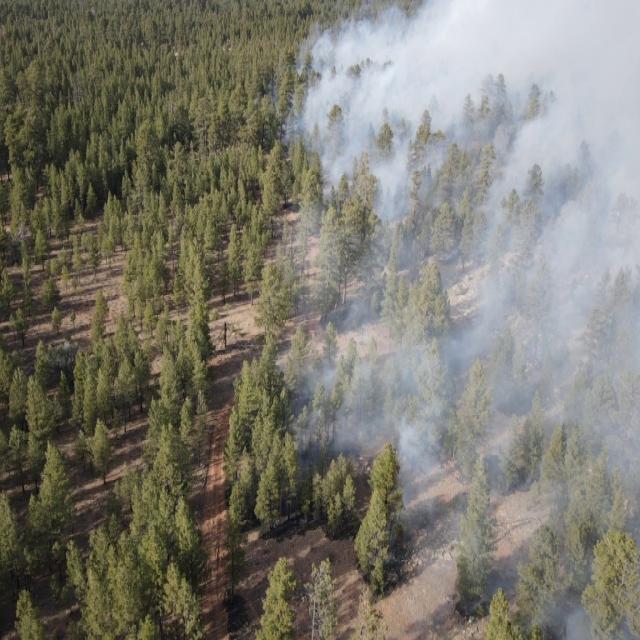smoke: (285, 238, 640, 500), (286, 0, 640, 244), (400, 497, 640, 640)
